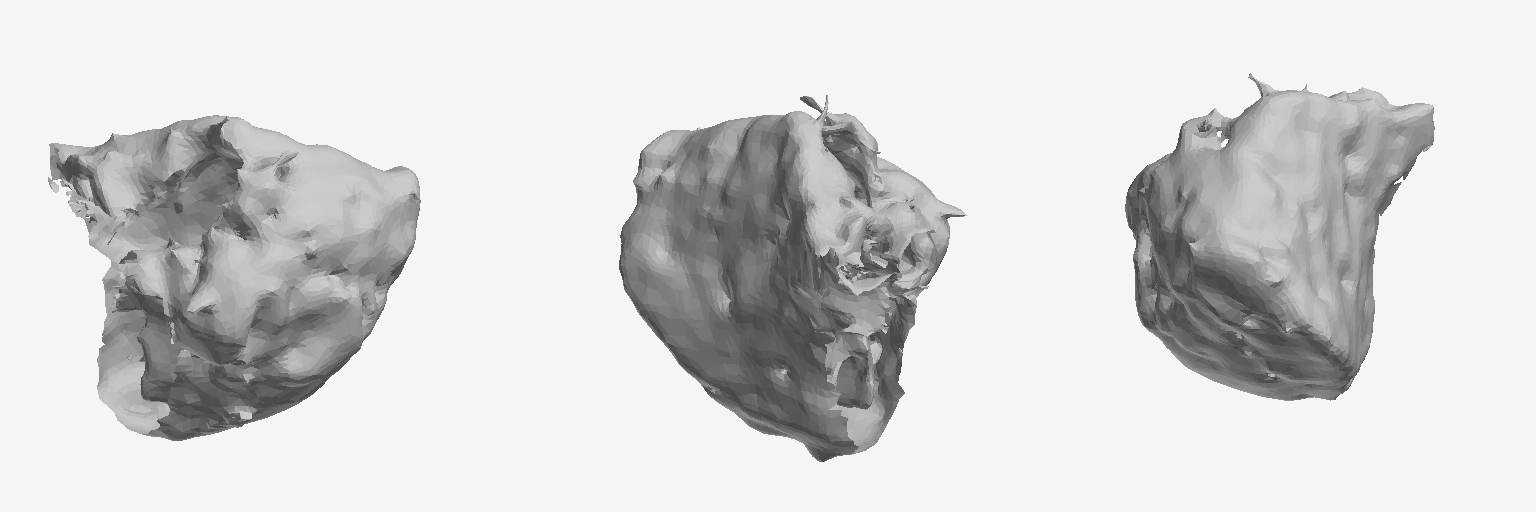
The model's file is L-Cerebellum-Cortex.obj.
3 views of the same model, side by side, from view 1: azimuth 30°, elevation 25°; view 2: azimuth 150°, elevation 25°; view 3: azimuth 270°, elevation 25° (orthographic).
Visible parts, largest first — view 1: L_Cerebellum-_Cortex_Cerebellum(new).001; view 2: L_Cerebellum-_Cortex_Cerebellum(new).001; view 3: L_Cerebellum-_Cortex_Cerebellum(new).001.
Part boxes in pixels (x1,y1,x2,y2): L_Cerebellum-_Cortex_Cerebellum(new).001: (48, 115, 420, 440); L_Cerebellum-_Cortex_Cerebellum(new).001: (619, 95, 966, 461); L_Cerebellum-_Cortex_Cerebellum(new).001: (1125, 73, 1434, 400).
Bounding box in the file's own units: 194 × 214 × 185.